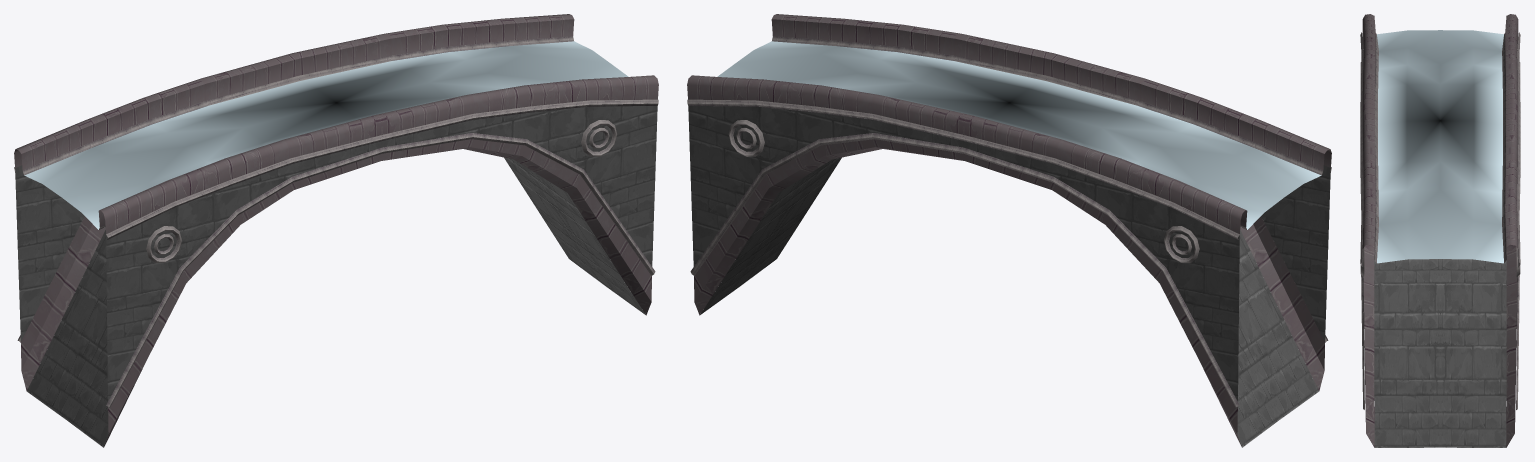
The model's file is M3_RPG_Bridge_01.FBX.
3 views of the same model, side by side, from view 1: azimuth 30°, elevation 25°; view 2: azimuth 150°, elevation 25°; view 3: azimuth 270°, elevation 25° (orthographic). The views are drawn at different scales.
Visible parts, largest first — view 1: M3_RPG_Bridge_01; view 2: M3_RPG_Bridge_01; view 3: M3_RPG_Bridge_01.
Part boxes in pixels (x1,y1,x2,y2): M3_RPG_Bridge_01: (14, 14, 658, 447); M3_RPG_Bridge_01: (687, 14, 1331, 447); M3_RPG_Bridge_01: (1360, 14, 1520, 447).
Size of the model in its own units: 29.37 by 13.63 by 8.63.
